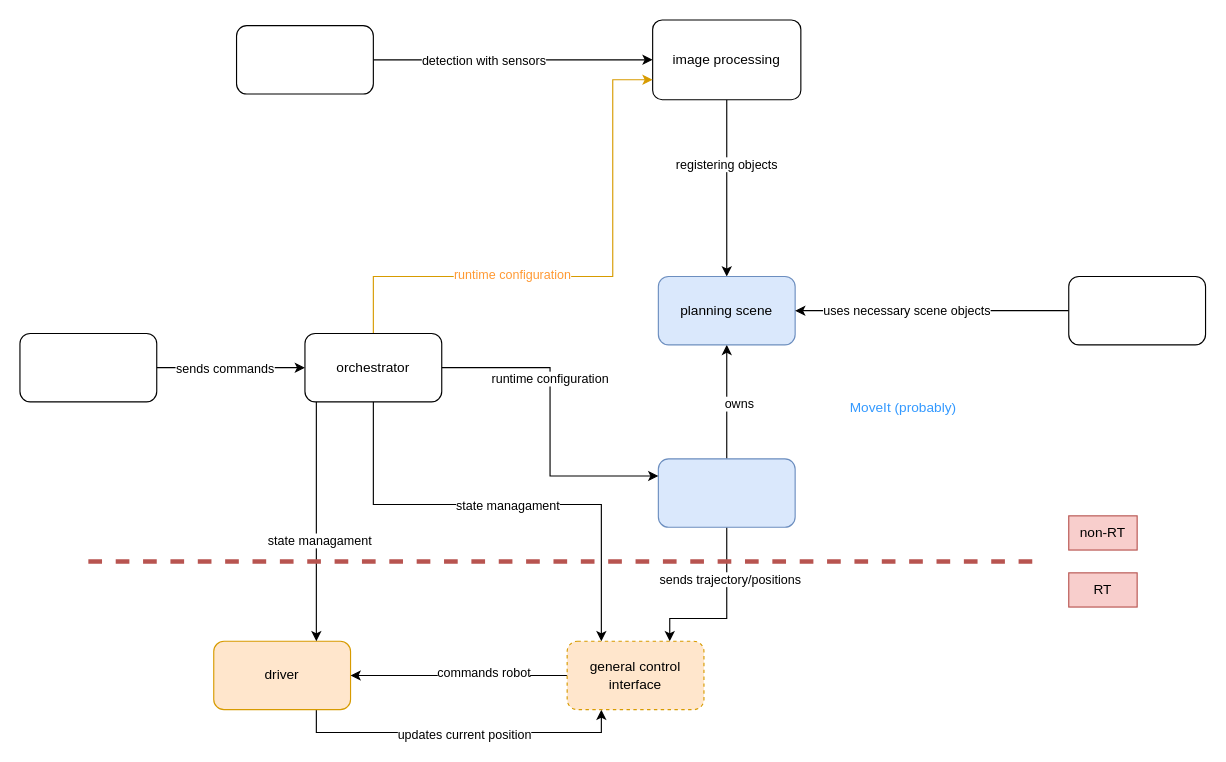
This 1226x762 diagram has some shape labels left out. Each missing label, with the box of its shape:
interactive UI: (19, 332, 157, 402)
path planner: (657, 458, 795, 527)
physical environment: (235, 25, 373, 94)
scene visualizer: (1068, 275, 1206, 345)
